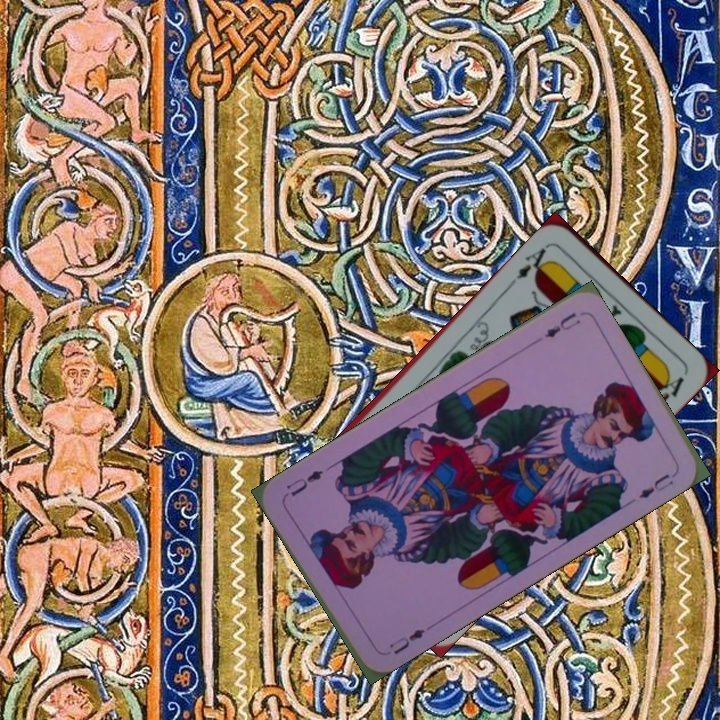EA: (506, 240, 555, 288)
EU: (540, 308, 583, 341), (385, 624, 427, 657)
